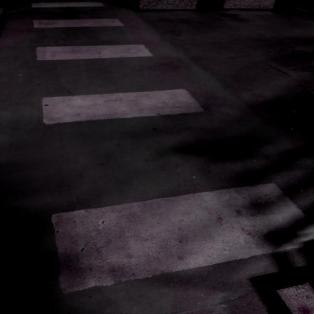Paso de Cebra: (26, 40, 218, 132)
